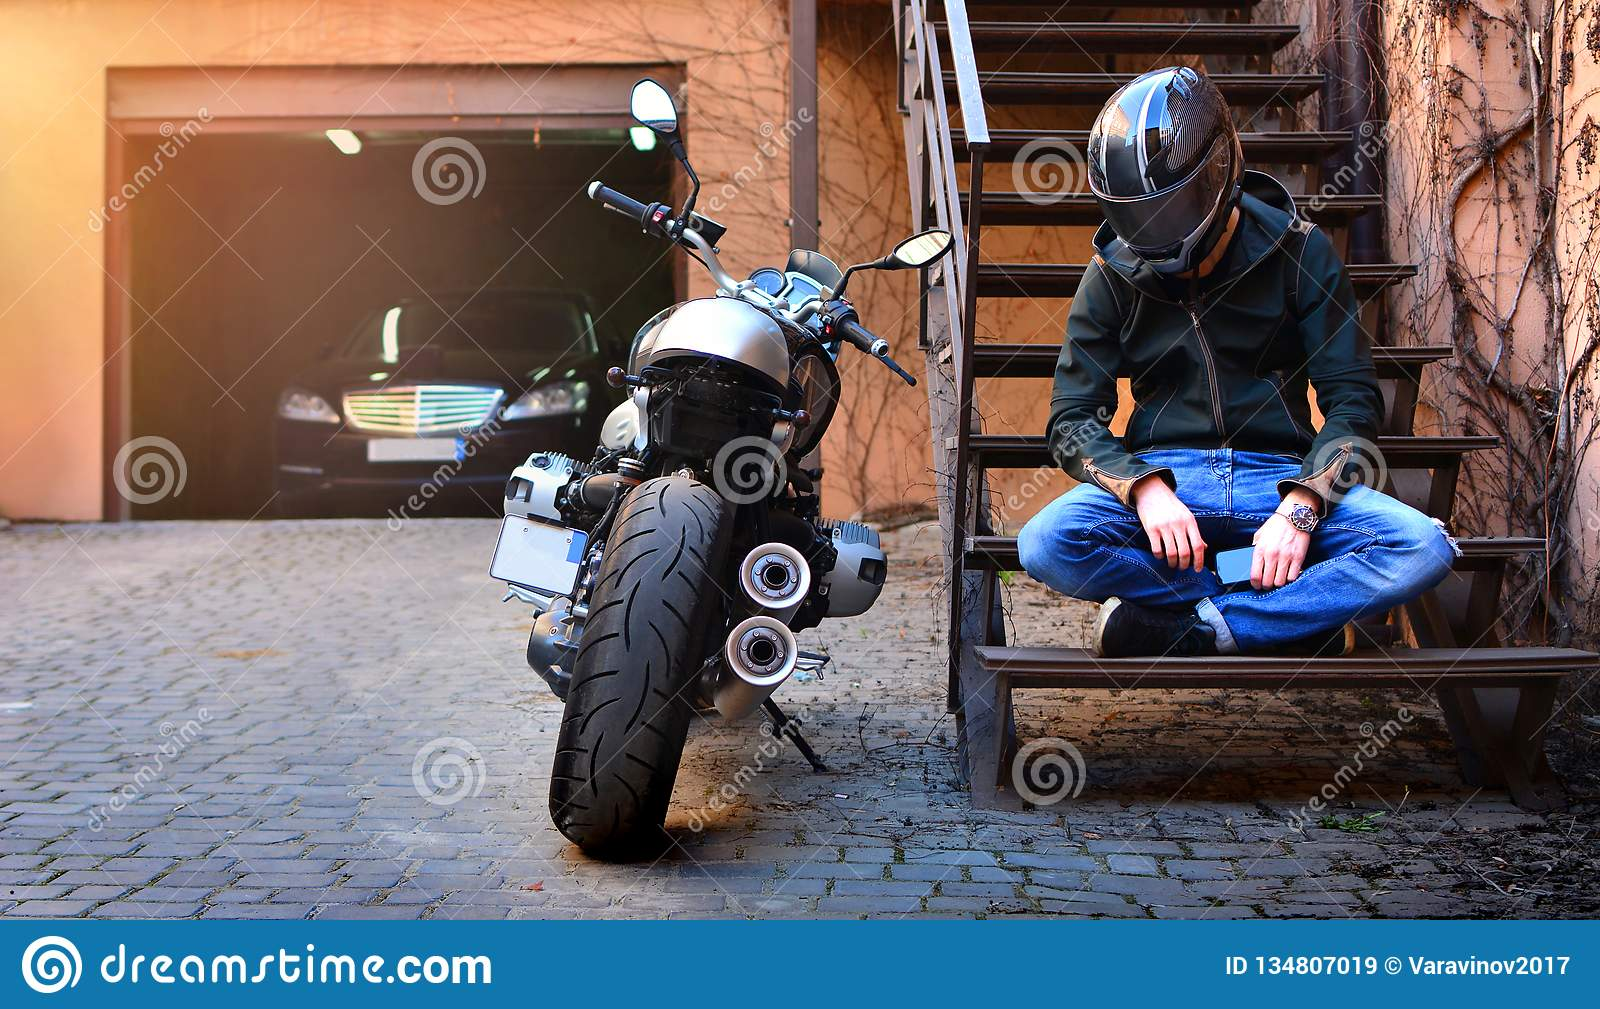helmet: (1086, 60, 1260, 285)
